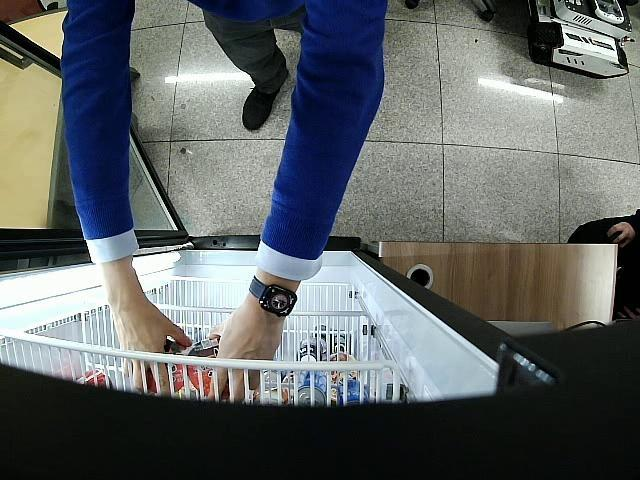02_shinRamen_S: (187, 335, 229, 400), (146, 340, 184, 394)
